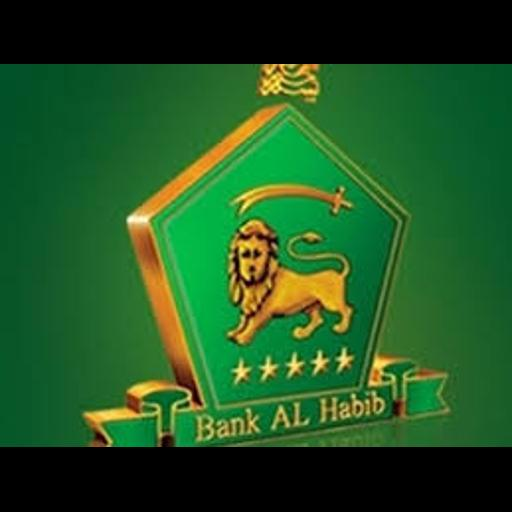Bank Al Habib: (0, 64, 512, 447)
